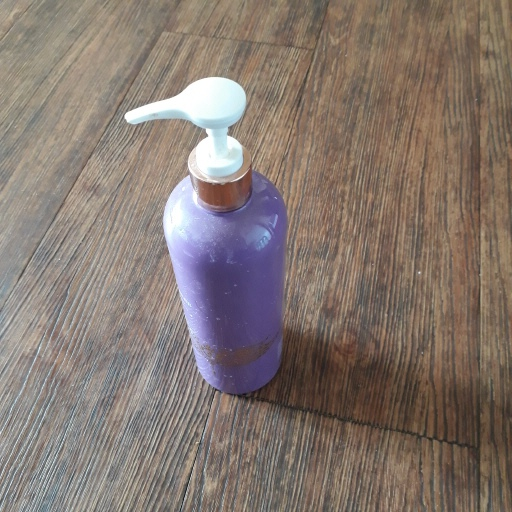Plastic_3: (125, 75, 290, 396)
